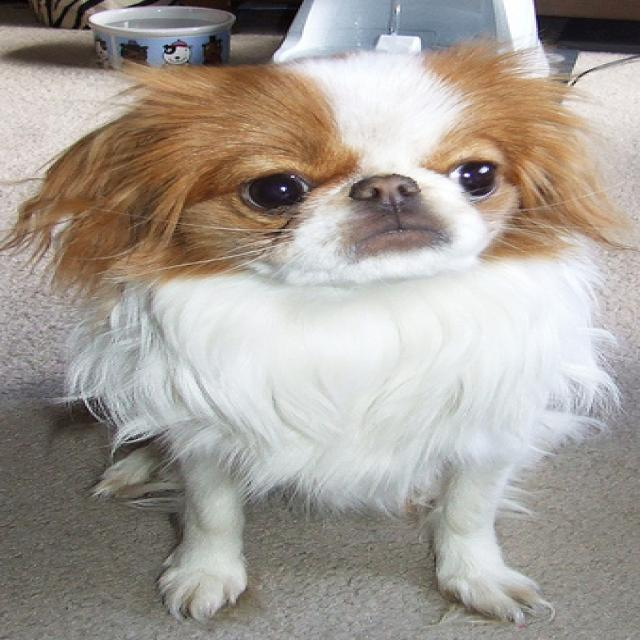dog-japanese_chin: (2, 29, 636, 637)
